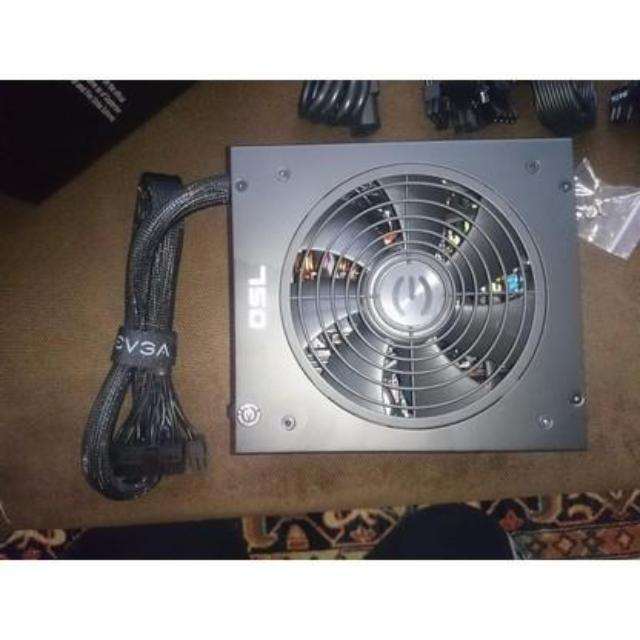PSU: (210, 127, 595, 467)
